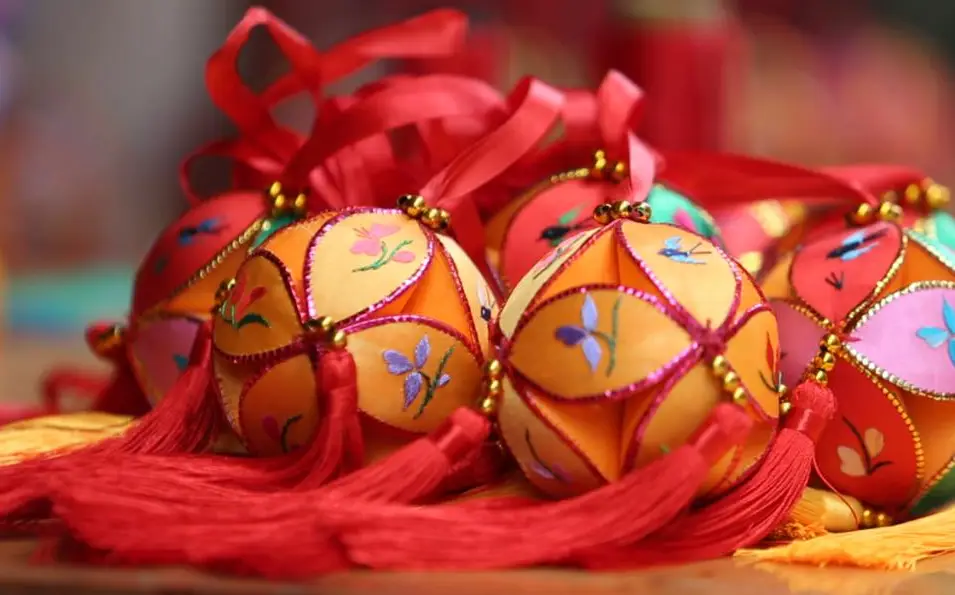xiuqiu: (209, 210, 496, 486), (496, 222, 783, 495)
